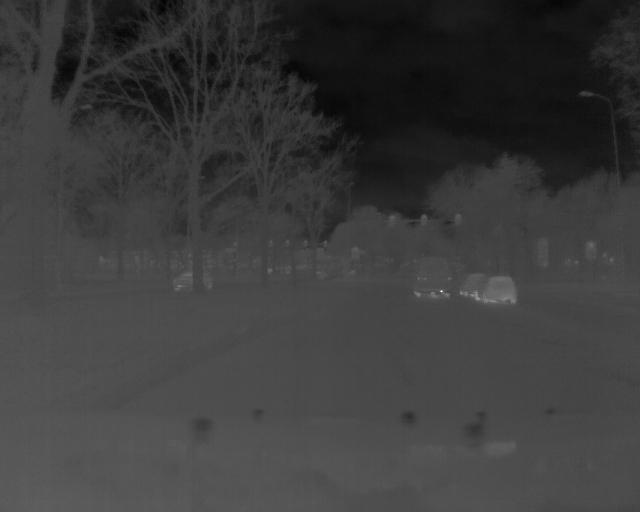car: (409, 258, 450, 302), (474, 275, 519, 307)
